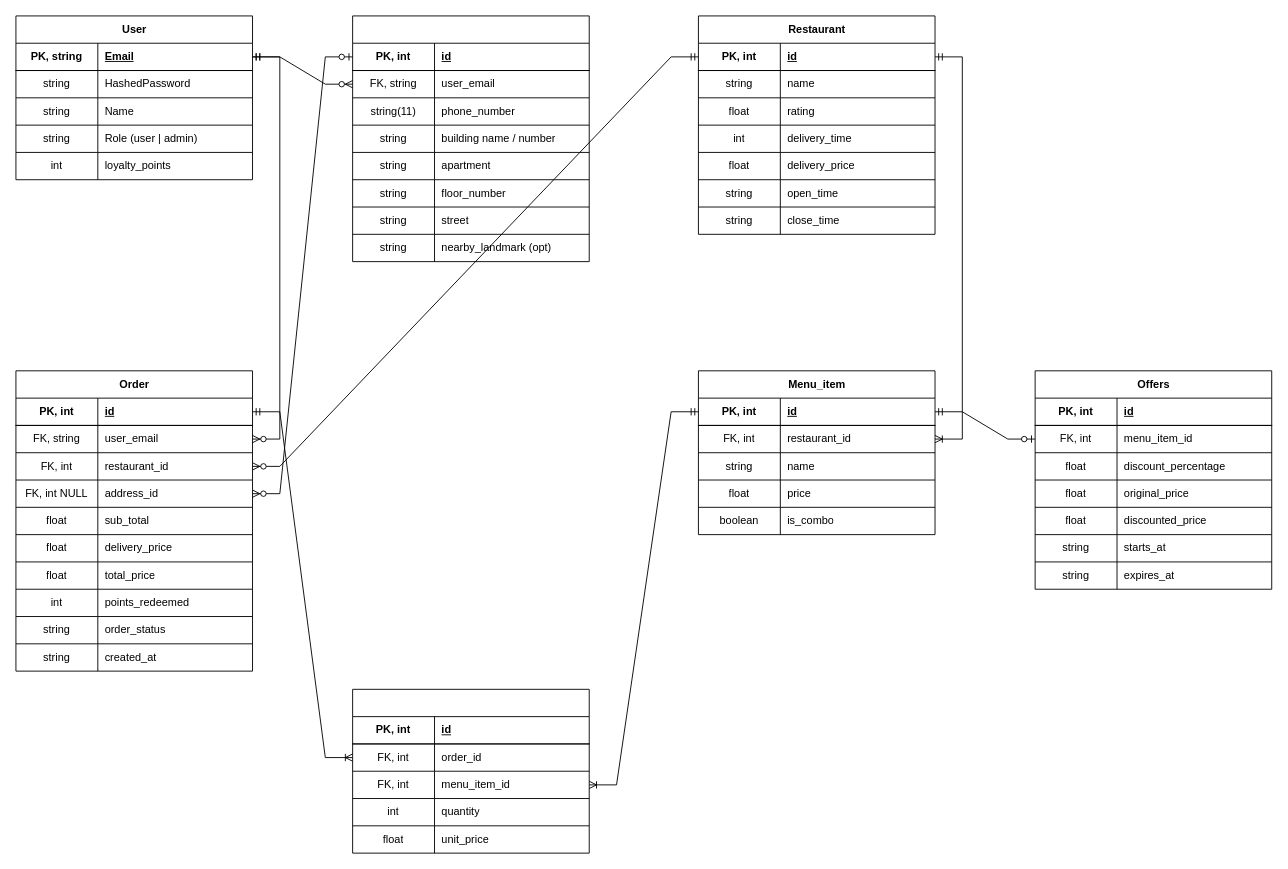
Image size: 1288x869. Some labels were removed from this diagram. The box of each missing label's shape, as (x1, y1, x2, y2) in pixels:
Address: (352, 15, 589, 262)
Order_item: (352, 688, 589, 853)
